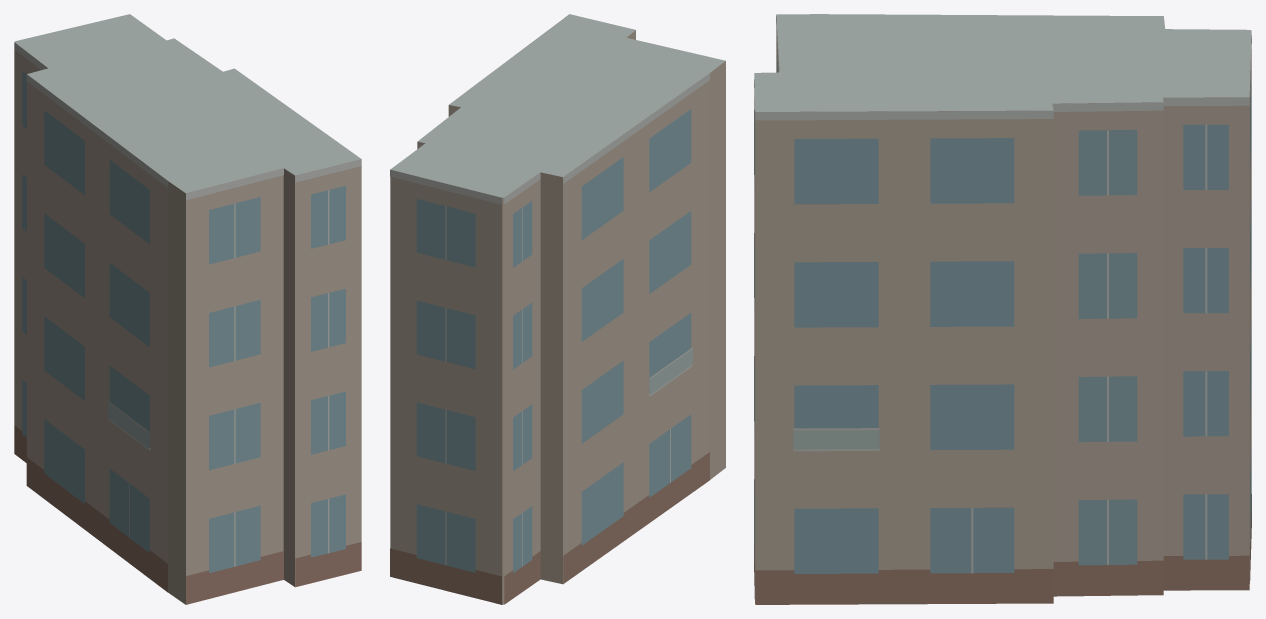
File: survey-upis-32472256.glb
The picture shows the model from 3 angles, left to right: view 1: azimuth 30°, elevation 25°; view 2: azimuth 150°, elevation 25°; view 3: azimuth 270°, elevation 25°; orthographic projection. The views are drawn at different scales.
Parts seen in each view (by area): view 1: survey-upis-32472256.tmp; view 2: survey-upis-32472256.tmp; view 3: survey-upis-32472256.tmp.
Boxes of the visible parts, x1,y1,x2,y2 form: survey-upis-32472256.tmp: (14,14,361,604); survey-upis-32472256.tmp: (390,14,725,604); survey-upis-32472256.tmp: (754,14,1251,604).
Bounding box in the file's own units: 6.1 × 14.2 × 13.
